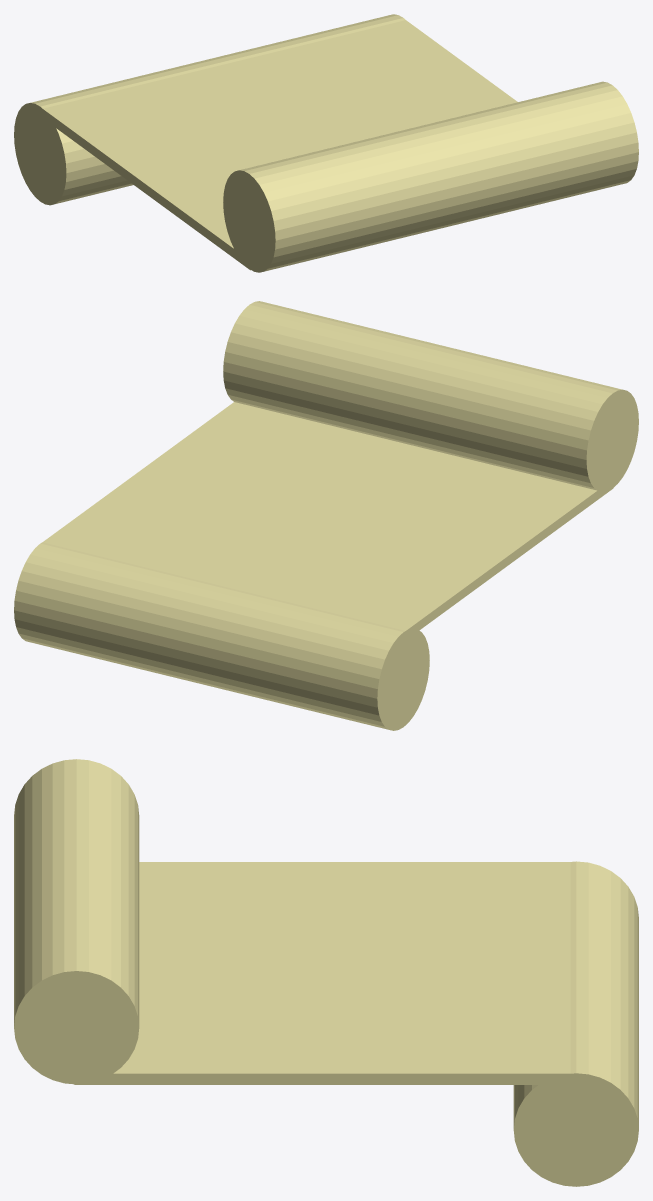
The model's file is ClockworkPixie_Test_Scroll.fbx.
The picture shows the model from 3 angles, top to bottom: view 1: azimuth 30°, elevation 25°; view 2: azimuth 150°, elevation 25°; view 3: azimuth 270°, elevation 25°; orthographic projection. The views are drawn at different scales.
Parts seen in each view (by area): view 1: Scroll; view 2: Scroll; view 3: Scroll.
Boxes of the visible parts, x1=… form: Scroll: x1=14, y1=14, x2=638, y2=272; Scroll: x1=14, y1=301, x2=638, y2=730; Scroll: x1=14, y1=759, x2=638, y2=1186.
Size of the model in its own units: 400 by 499 by 190.
